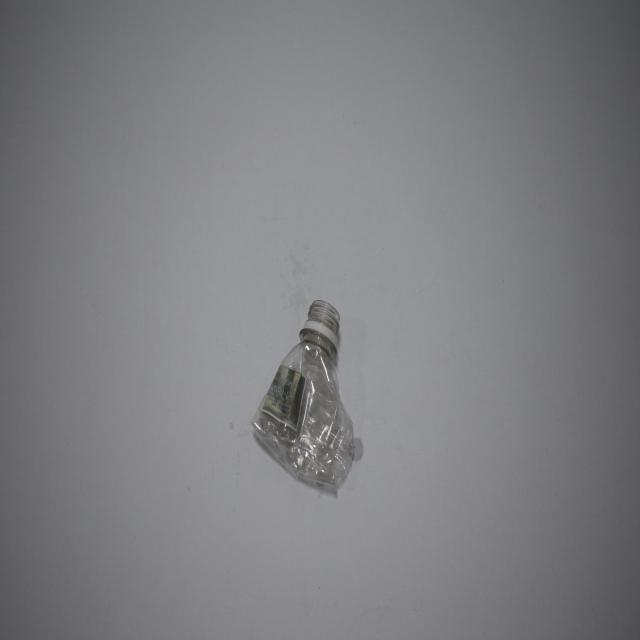bottle: (245, 296, 368, 508)
